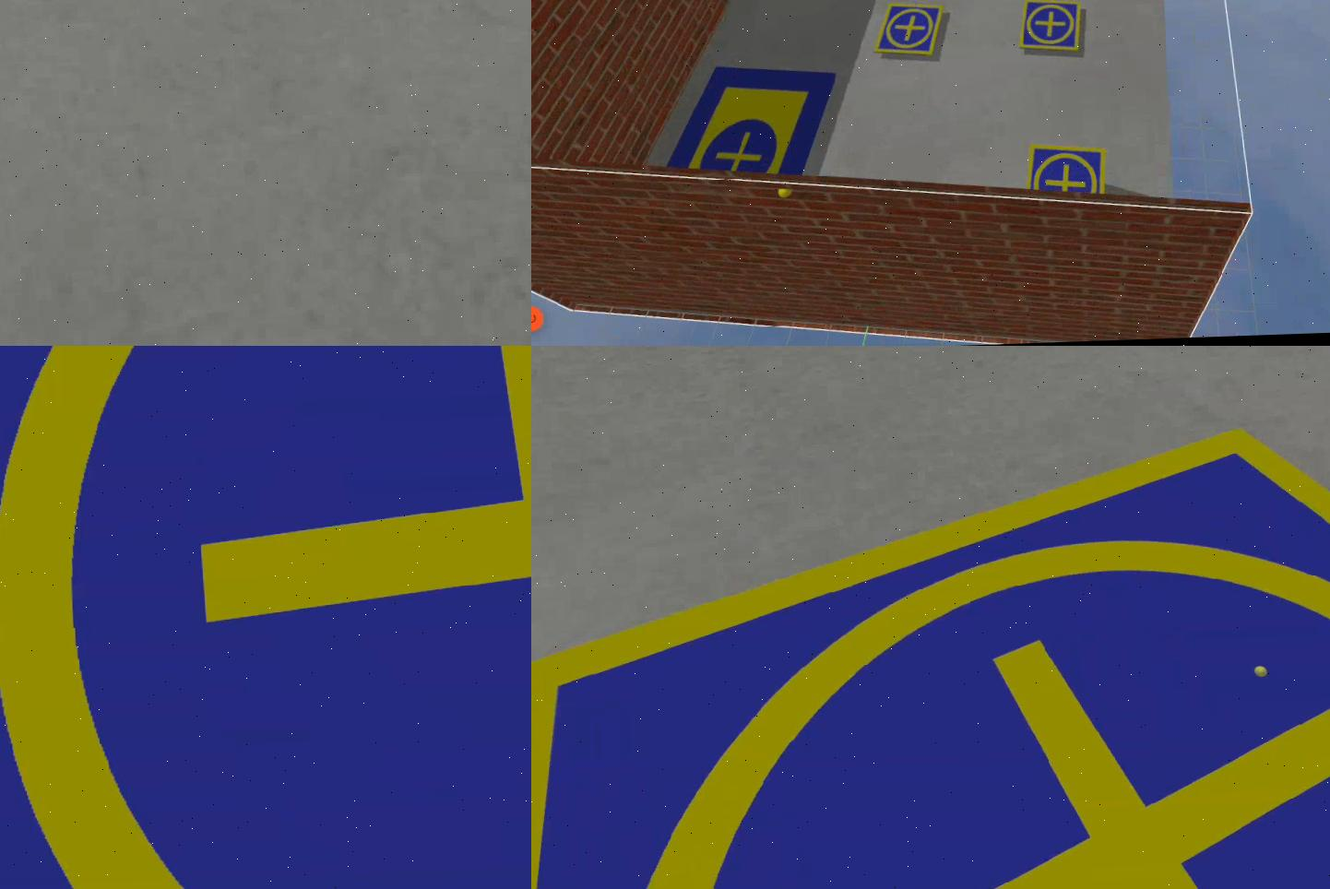large_base: (666, 63, 842, 182)
small_base: (532, 409, 1330, 889), (1, 347, 532, 889), (1026, 141, 1110, 201), (874, 2, 946, 58), (1016, 1, 1086, 55)
